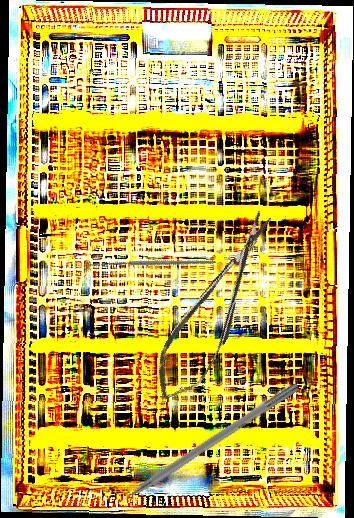Hook Surgical: (84, 207, 218, 325)
Micro Scissor: (140, 204, 293, 411)
Pusher: (97, 379, 301, 518)
